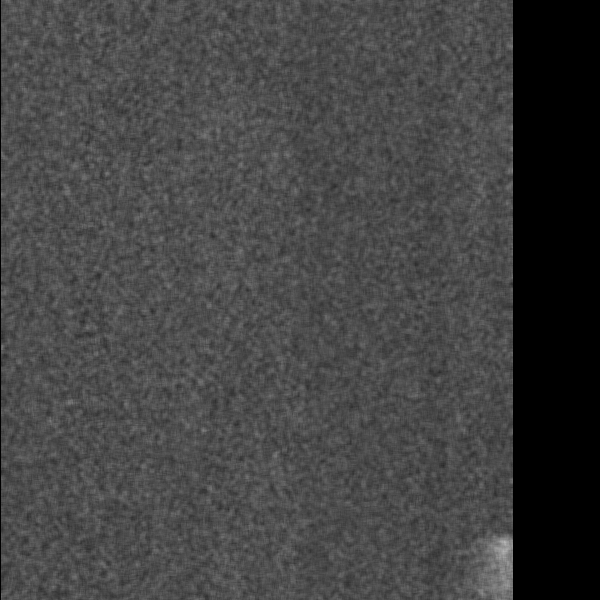spark: (1, 558, 49, 600), (274, 308, 320, 339), (271, 144, 306, 184), (467, 340, 490, 398), (245, 524, 265, 542)
